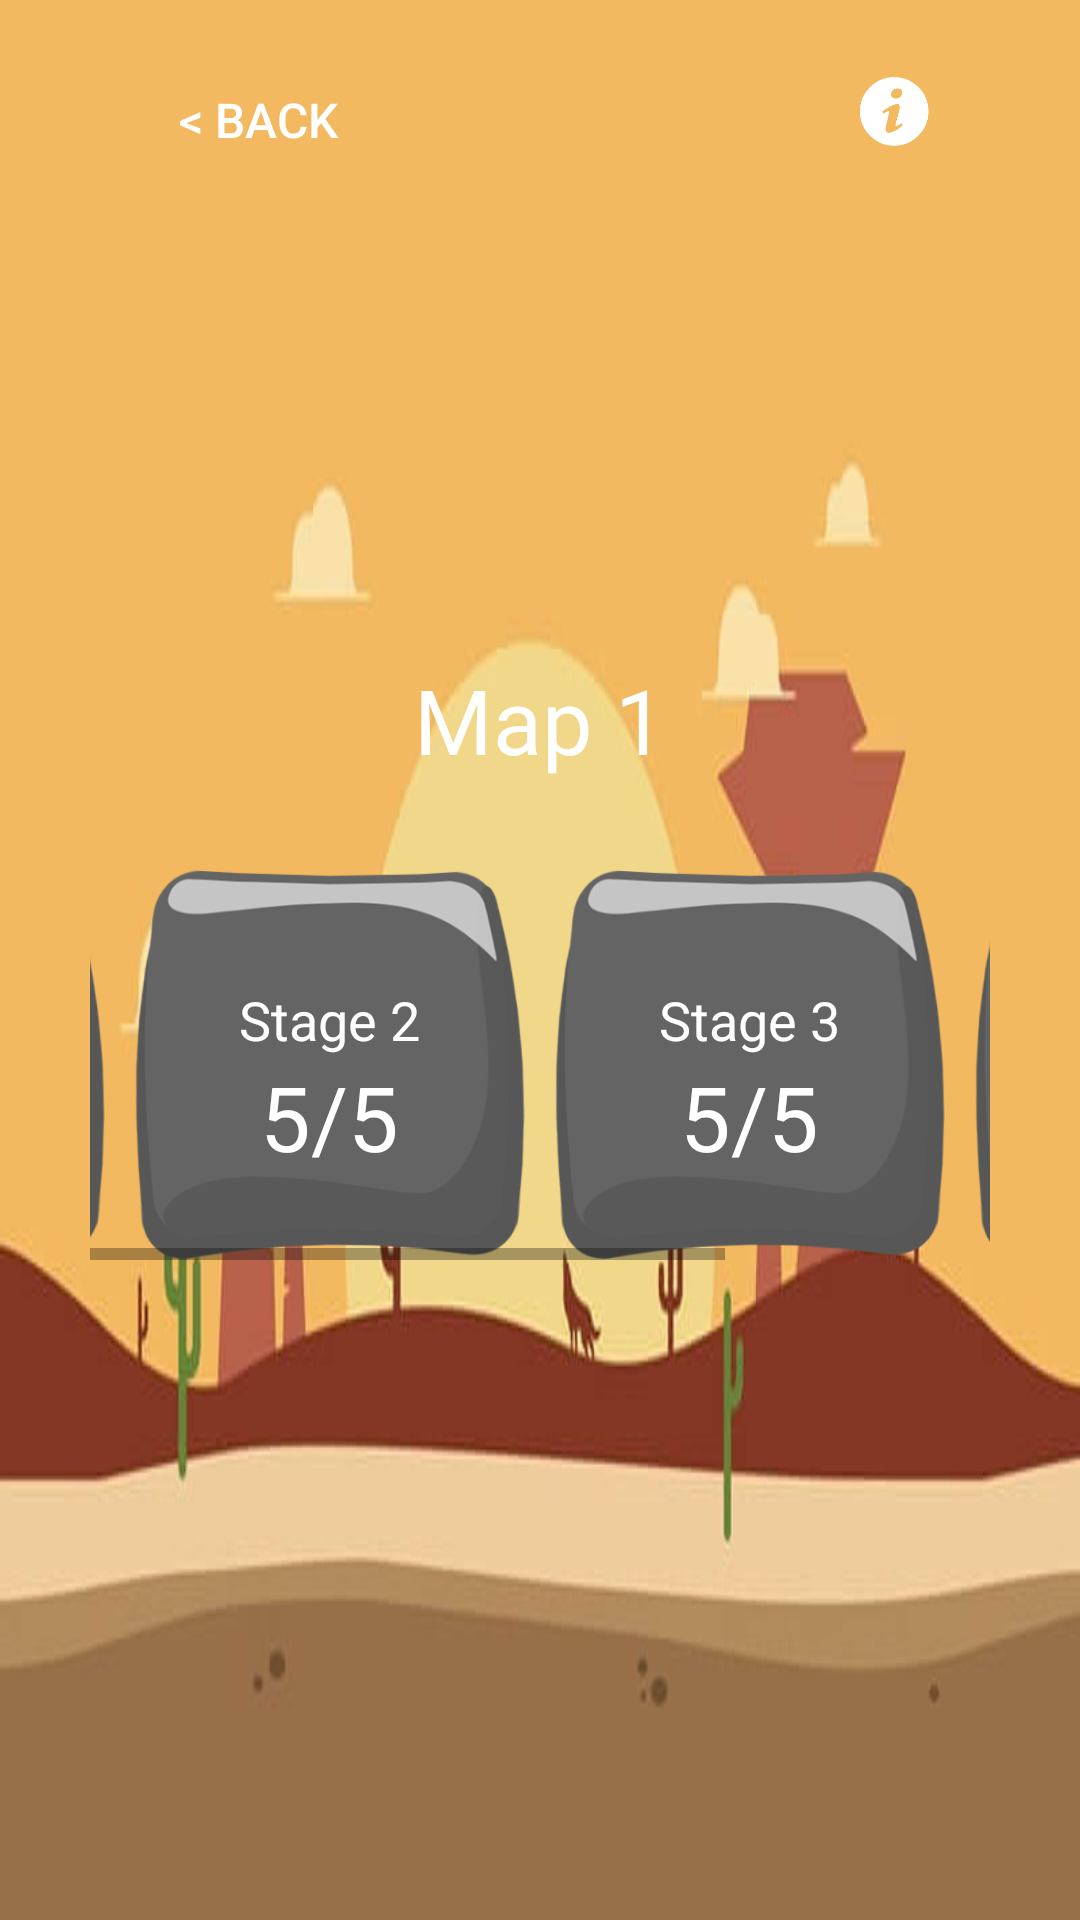

Named icons in this screenshot (1080 x 1920) and their bounding boxes, (x1,y1,x2,y2):
info: (860,77,929,146)
